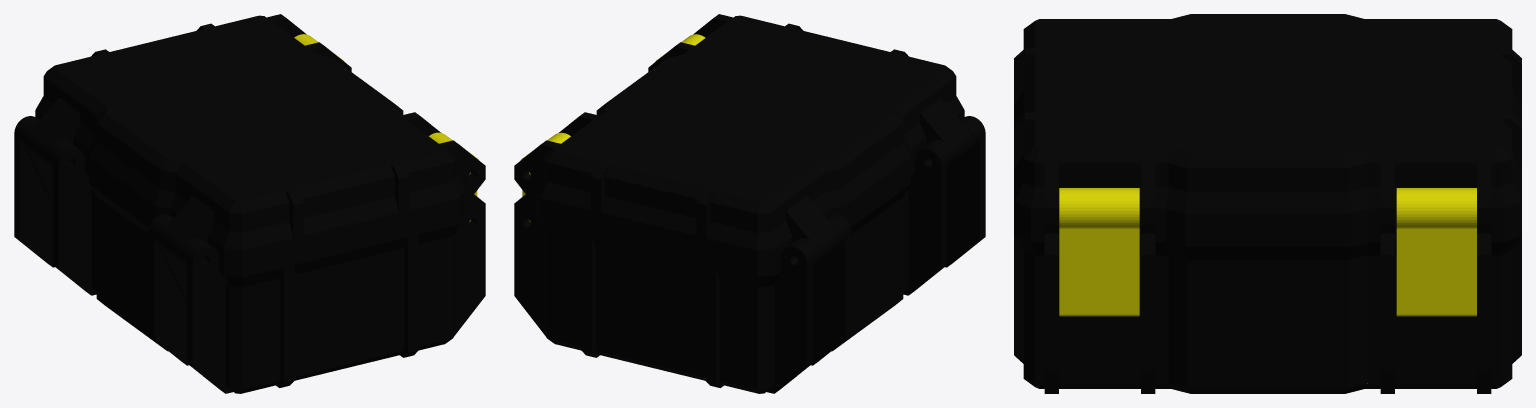
Rendered from Estuchecerrado.glb.
The picture shows the model from 3 angles, left to right: view 1: azimuth 30°, elevation 25°; view 2: azimuth 150°, elevation 25°; view 3: azimuth 270°, elevation 25°; orthographic projection. The views are drawn at different scales.
Bounding box in the file's own units: 0.1118 × 0.0697 × 0.133.
